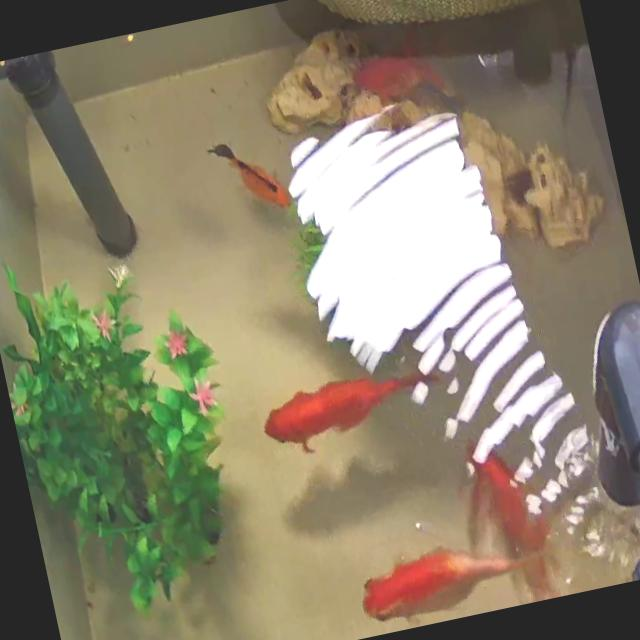fish: (452, 430, 566, 612), (360, 537, 506, 627), (258, 370, 387, 461), (208, 131, 295, 226), (350, 41, 454, 116)
